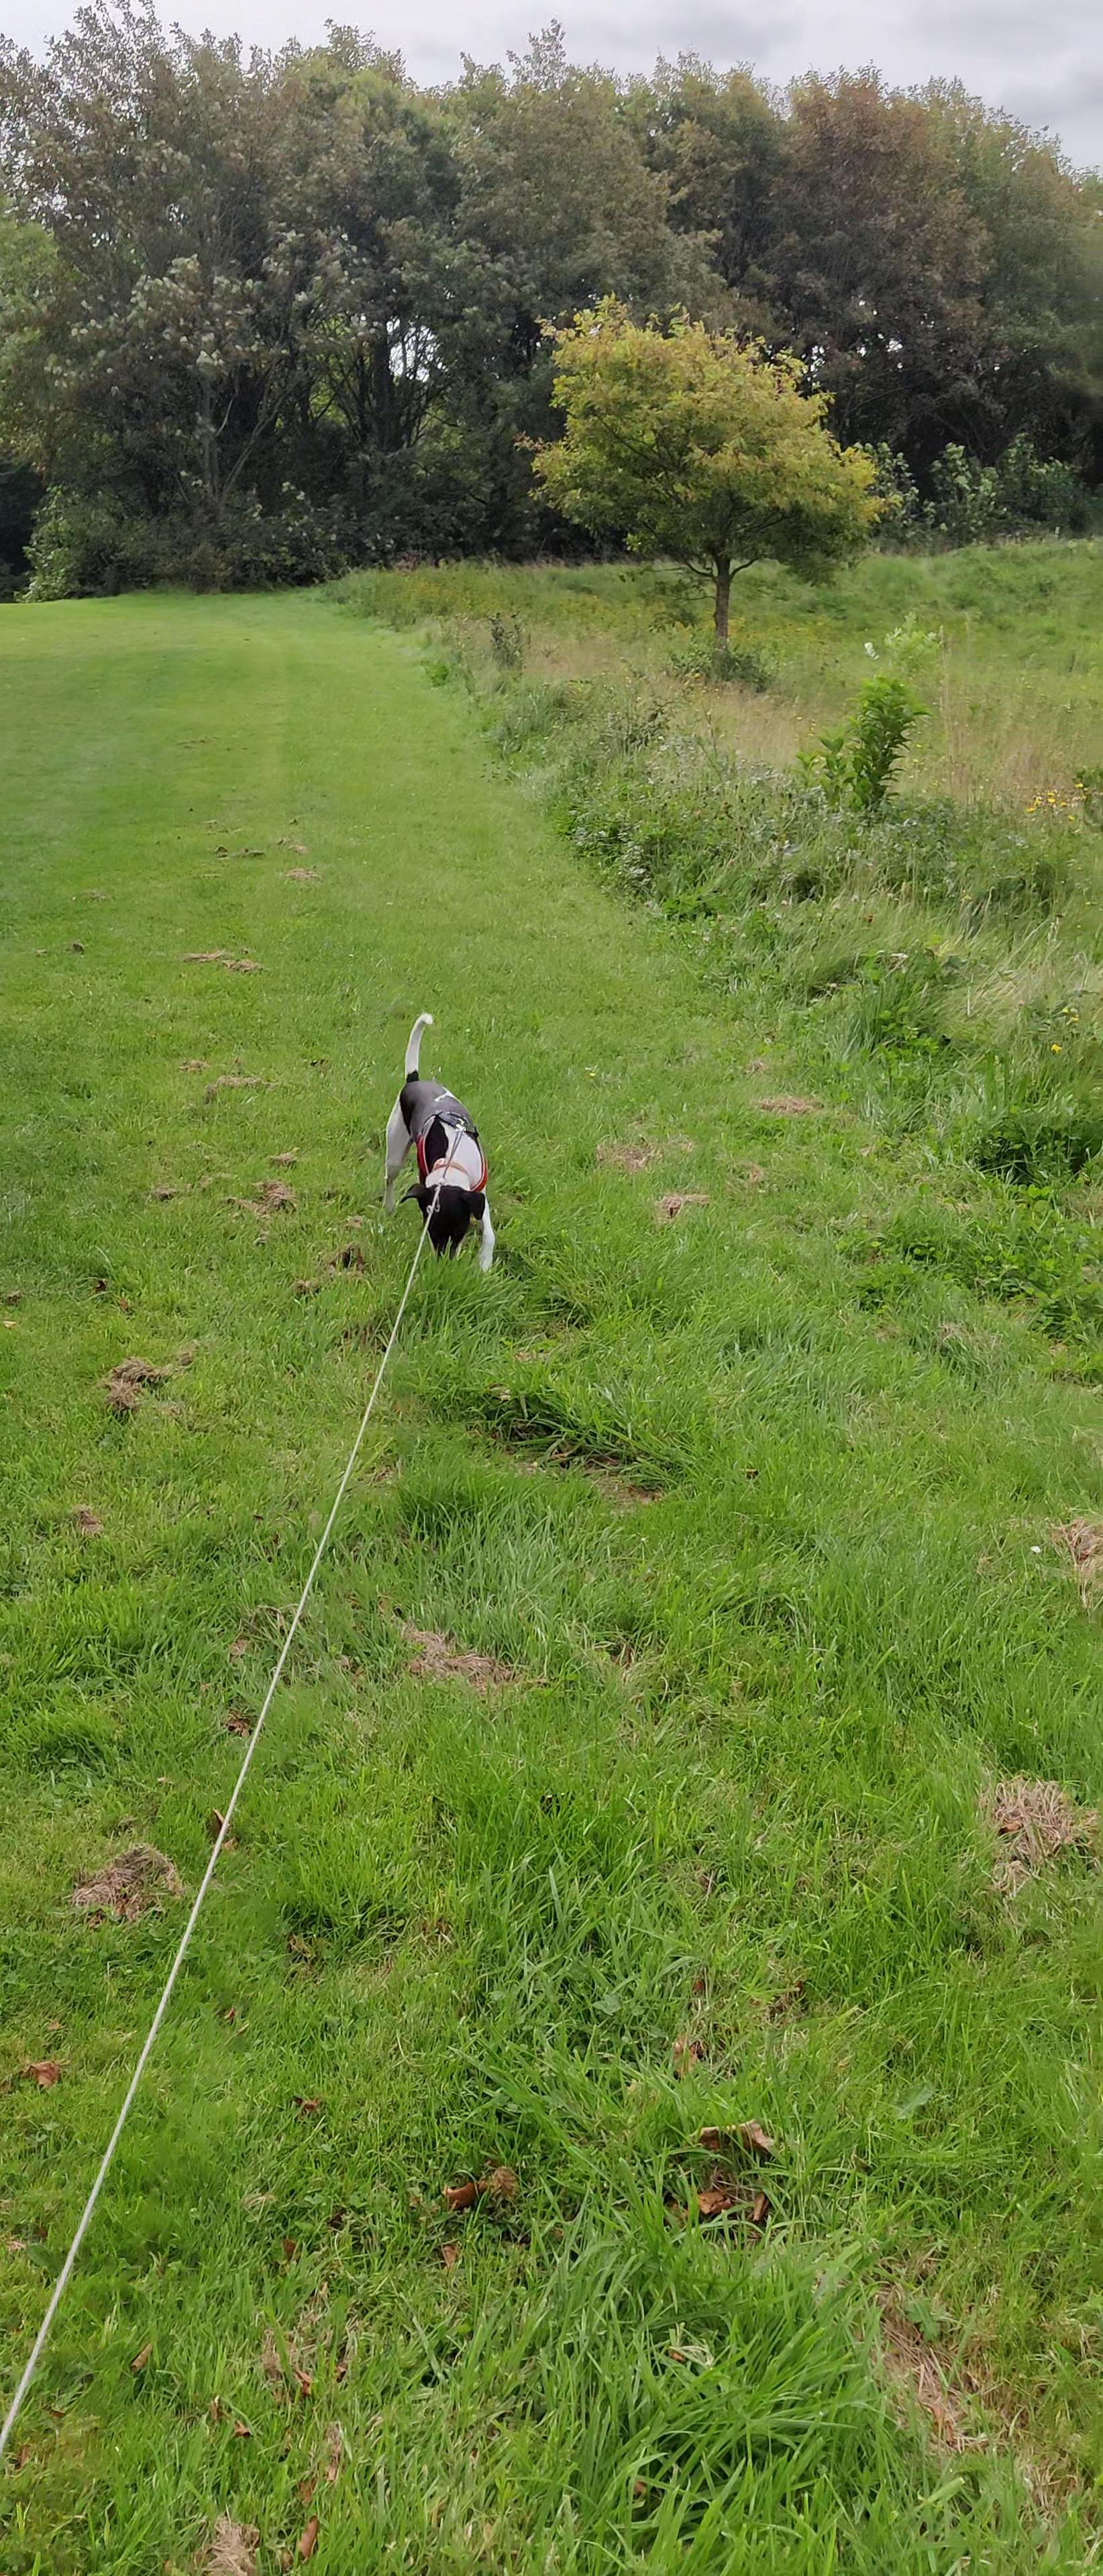Dog: (375, 1007, 498, 1278)
